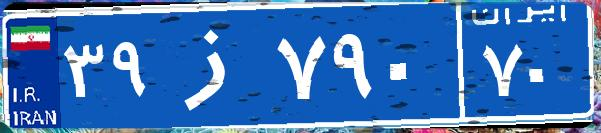0: (385, 28, 445, 110), (525, 38, 570, 115)
3: (57, 26, 110, 107)
7: (273, 28, 330, 110), (475, 38, 525, 113)
9: (330, 28, 385, 110), (110, 28, 158, 105)
ز: (158, 15, 273, 115)
